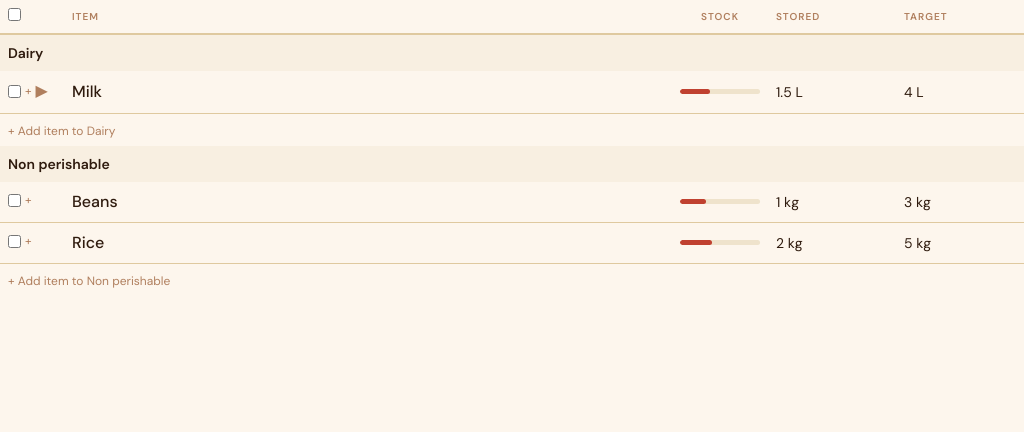
InventoryTable › batch disclosure: only items with batch_count > 1 show a toggle; expanding loads sub-rows
The width and height of the screenshot is (1024, 432).
Click the button named "Expand batches": point(42, 91) [36,79,48,103]
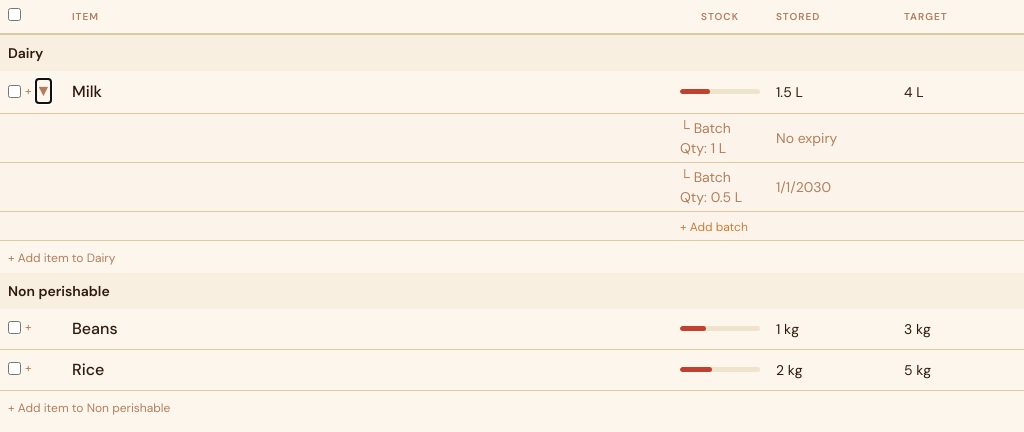
Result: the text "└ Batch Qty: 1 L" is shown at [680,118,731,156]
Click the button named "Collapse batches": point(44, 91) [36,79,51,103]
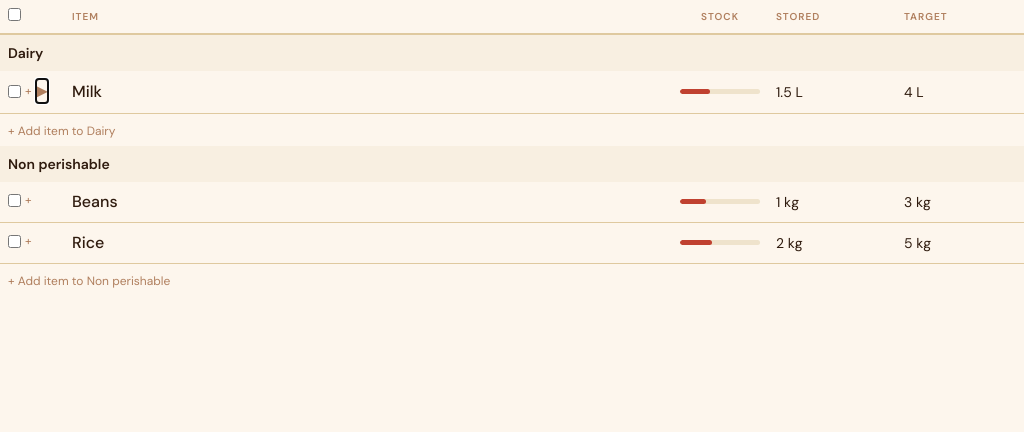
Result: the text "└ Batch Qty: 1 L" is gone
